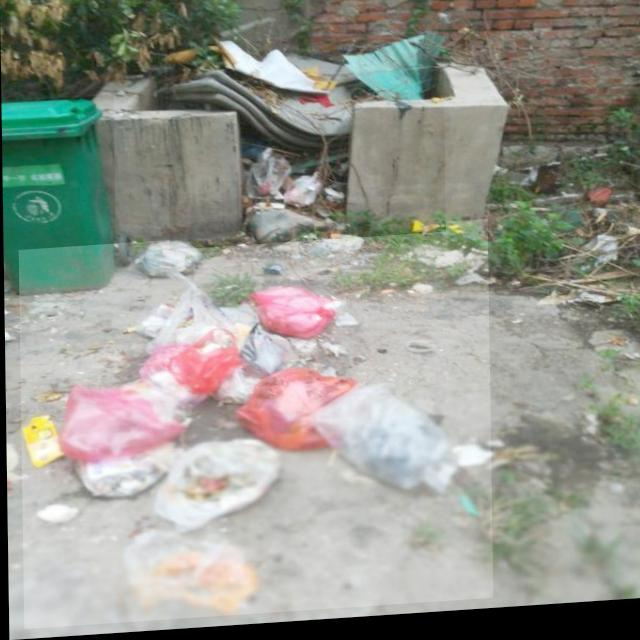garbage: (18, 226, 491, 629), (167, 35, 445, 252)
garbage_bin: (1, 96, 115, 296)
